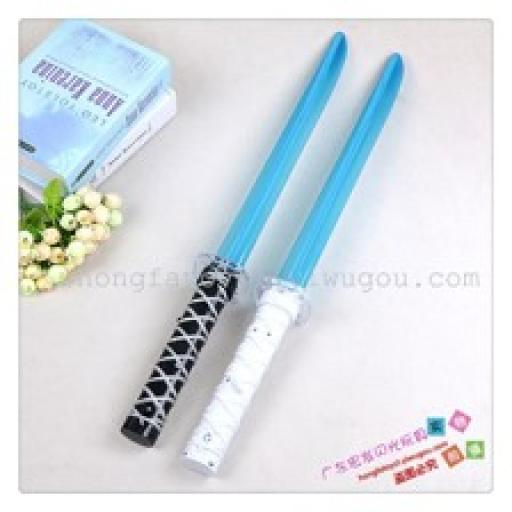lightsaber: (120, 32, 348, 447), (182, 53, 405, 476)
